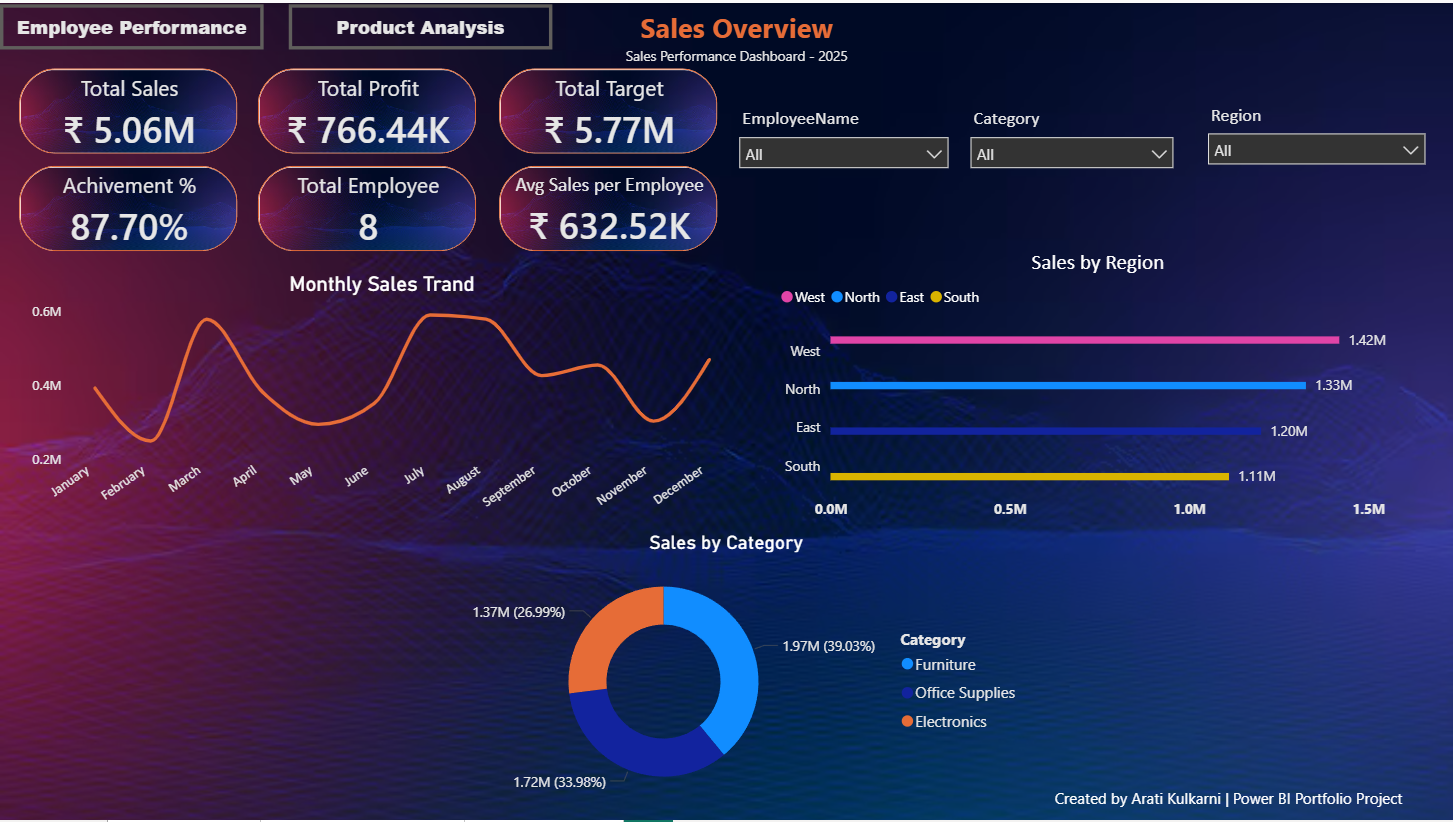

Layout of this report page (visuals, bound fields, positions):
{"tool":"powerbi","page":{"name":"Sales Overview","canvas":[1280,720],"ordinal":0},"visuals":[{"type":"cardVisual","fields":{"Data":["SalesData.Total Sales"]},"box":[0,41.2,226.4,109.8],"z":0},{"type":"cardVisual","fields":{"Data":["SalesData.Total Profit"]},"box":[209.9,41.2,226.4,109.8],"z":1000},{"type":"cardVisual","fields":{"Data":["SalesData.Total Target"]},"box":[422.6,41.2,226.4,109.8],"z":2000},{"type":"cardVisual","fields":{"Data":["SalesData.Achivement %"]},"box":[0,126.2,226.4,109.8],"z":3000},{"type":"cardVisual","fields":{"Data":["SalesData.Total Employee"]},"box":[209.9,126.2,226.4,109.8],"z":4000},{"type":"cardVisual","fields":{"Data":["SalesData.Avg Sales per Employee"]},"box":[422.6,126.2,226.4,109.8],"z":5000},{"type":"lineChart","title":"Monthly Sales Trand","fields":{"Category":["SalesData.OrderDate.Variation.Date Hierarchy.Month"],"Y":["SalesData.Total Sales"]},"box":[23.3,236,625.7,227.8],"z":6000},{"type":"clusteredBarChart","title":"Sales by Region","fields":{"Category":["SalesData.Region"],"Y":["SalesData.Total Sales"],"Series":["SalesData.Region"]},"box":[682,216.8,568.1,247],"z":7000},{"type":"donutChart","title":"Sales by Category","fields":{"Category":["SalesData.Category"],"Y":["SalesData.Total Sales"]},"box":[370.5,463.8,536.5,247],"z":8000},{"type":"slicer","fields":{"Values":["SalesData.EmployeeName"]},"box":[639.5,86.4,204.5,85.1],"z":9000},{"type":"slicer","fields":{"Values":["SalesData.Category"]},"box":[843.9,86.4,199,85.1],"z":10000},{"type":"slicer","fields":{"Values":["SalesData.Region"]},"box":[1052.5,83.7,211.3,85.1],"z":11000},{"type":"textbox","box":[907,684.7,347.2,35.7],"z":12000},{"type":"textbox","box":[300.5,0,695.7,65.9],"z":13000},{"type":"actionButton","box":[253.9,1.4,231.9,39.8],"z":14000},{"type":"actionButton","box":[0,1.4,231.9,39.8],"z":15000}]}

Visuals, with their boxes in screenshot pixels (x1, y1, x2, y2), scaled from the page's 1280x720 canvas onto the 1453x822 screenshot:
cardVisual - SalesData.Total Sales: [left=0, top=47, right=257, bottom=172]
cardVisual - SalesData.Total Profit: [left=238, top=47, right=495, bottom=172]
cardVisual - SalesData.Total Target: [left=480, top=47, right=737, bottom=172]
cardVisual - SalesData.Achivement %: [left=0, top=144, right=257, bottom=269]
cardVisual - SalesData.Total Employee: [left=238, top=144, right=495, bottom=269]
cardVisual - SalesData.Avg Sales per Employee: [left=480, top=144, right=737, bottom=269]
"Monthly Sales Trand" lineChart: [left=26, top=269, right=737, bottom=530]
"Sales by Region" clusteredBarChart: [left=774, top=248, right=1419, bottom=530]
"Sales by Category" donutChart: [left=421, top=530, right=1030, bottom=811]
slicer - SalesData.EmployeeName: [left=726, top=99, right=958, bottom=196]
slicer - SalesData.Category: [left=958, top=99, right=1184, bottom=196]
slicer - SalesData.Region: [left=1195, top=96, right=1435, bottom=193]
textbox: [left=1030, top=782, right=1424, bottom=821]
textbox: [left=341, top=0, right=1131, bottom=75]
actionButton: [left=288, top=2, right=551, bottom=47]
actionButton: [left=0, top=2, right=263, bottom=47]
